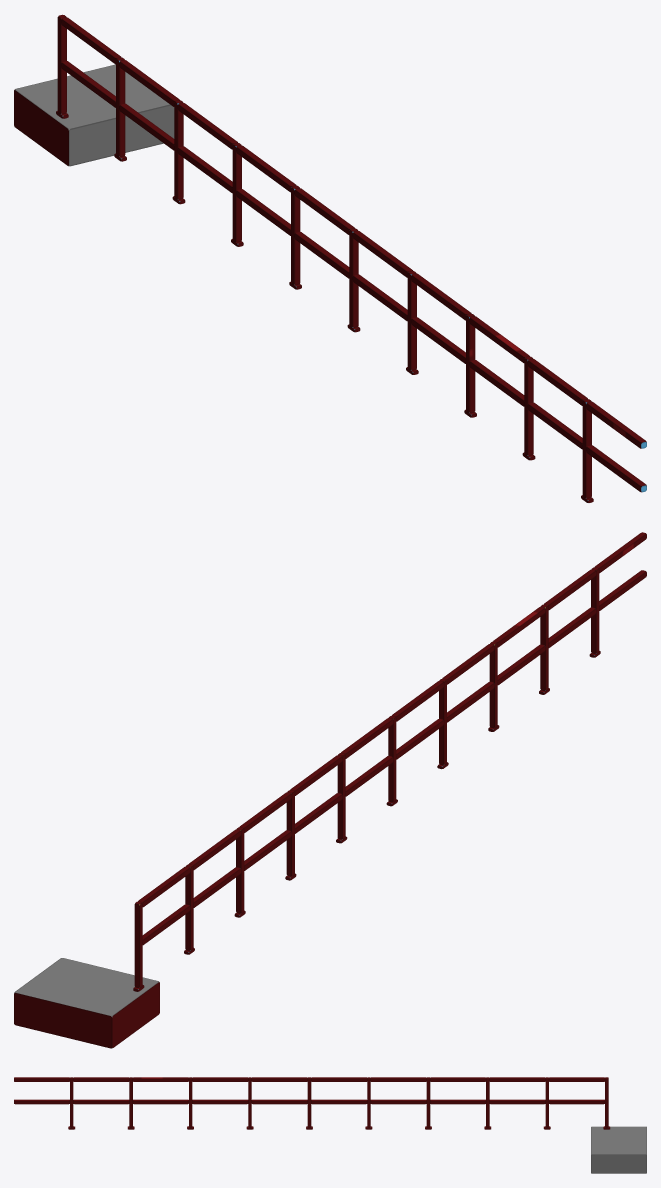
Rendered from df7g_floor_e.obj.
3 views of the same model, one above another, from view 1: azimuth 30°, elevation 25°; view 2: azimuth 150°, elevation 25°; view 3: azimuth 270°, elevation 25° (orthographic). The views are drawn at different scales.
Parts seen in each view (by area): view 1: df7g_floor_e; view 2: df7g_floor_e; view 3: df7g_floor_e.
Boxes of the visible parts, x1=… form: df7g_floor_e: x1=14, y1=14, x2=646, y2=502; df7g_floor_e: x1=14, y1=532, x2=646, y2=1048; df7g_floor_e: x1=14, y1=1077, x2=646, y2=1173.
Size of the model in its own units: 1.19 by 1.38 by 11.31.
